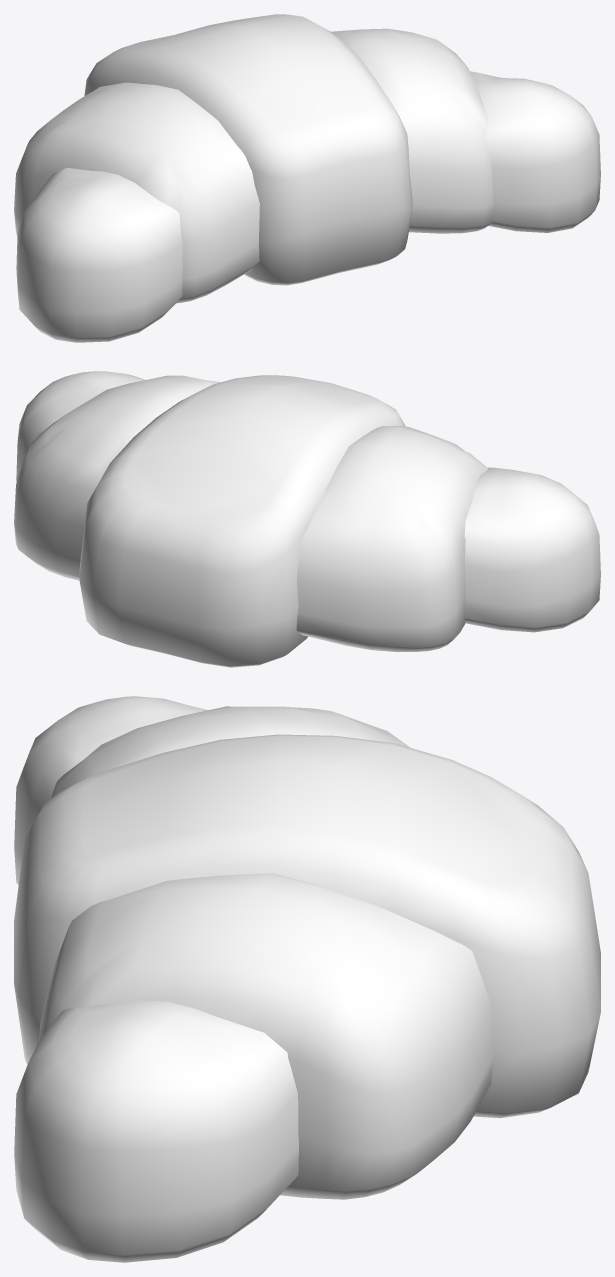
File: Croissant_01.fbx
The picture shows the model from 3 angles, top to bottom: view 1: azimuth 30°, elevation 25°; view 2: azimuth 150°, elevation 25°; view 3: azimuth 270°, elevation 25°; orthographic projection. The views are drawn at different scales.
Visible parts, largest first — view 1: Croissant_01; view 2: Croissant_01; view 3: Croissant_01.
Part boxes in pixels (x1,y1,x2,y2): Croissant_01: (14, 14, 600, 342); Croissant_01: (14, 371, 600, 667); Croissant_01: (14, 696, 600, 1262).
Bounding box in the file's own units: 149 × 87.7 × 50.15.
